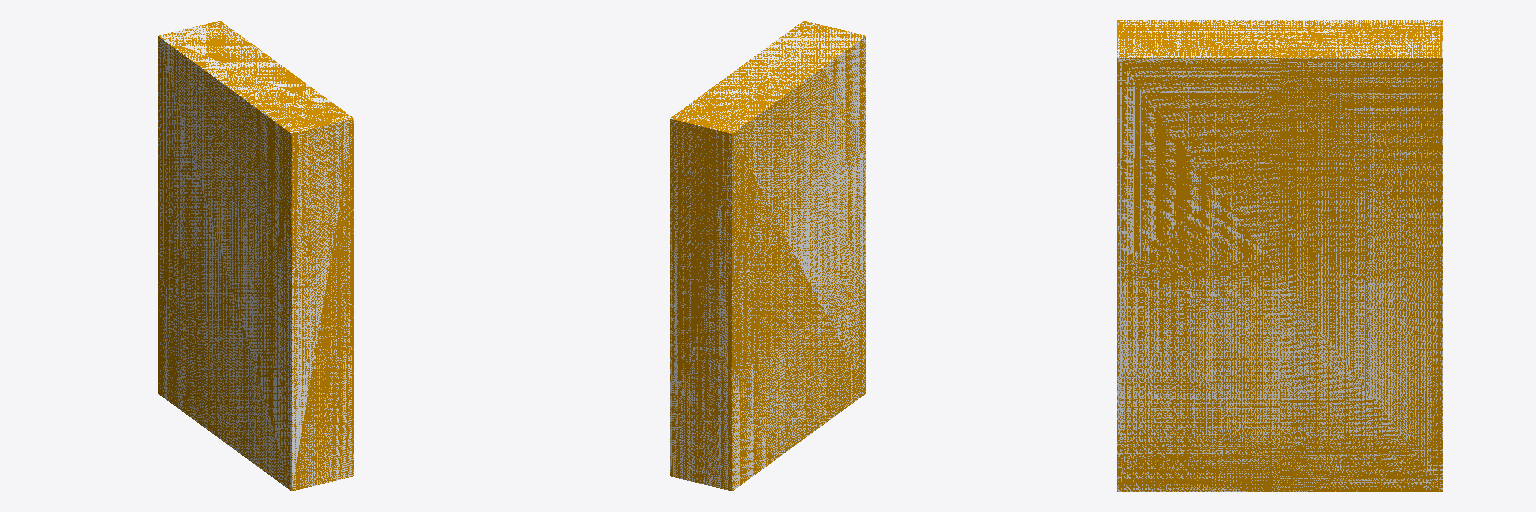
URDF robot description (my_object):
<?xml version="1.0" ?> 
<robot name="my_object" static="true">
  <link name="base_link">
  <inertial>
    <mass value="0.785" />
    <origin xyz="0 0 0.0" />
    <inertia ixx="1.0" ixy="0.0" ixz="0.0" iyy="1.0" iyz="0.0" izz="1.0"/>
  </inertial>
  <visual>
   <origin xyz="0 0 0.0" rpy="0 0 0" />
   <geometry>
     <mesh filename="package://cob_gazebo_objects/Media/models/book_romantiker.dae"/>
   </geometry>
  </visual>
  <collision>
   <origin xyz="0 0 0" rpy="0 0 0" />
   <geometry>
     <box size="0.045 0.168 0.247" />
   </geometry>
  </collision>     
  </link>


<gazebo reference="base_link">
  <mu1>50.0</mu1>
  <mu2>50.0</mu2>
  <kp>1000000.0</kp>
  <kd>1.0</kd>
</gazebo>
</robot>

--- Render facts (derived) ---
3 views of the same robot in one strip: view 1: azimuth 30°, elevation 25°; view 2: azimuth 150°, elevation 25°; view 3: azimuth 270°, elevation 25° (orthographic).
Model my_object with 1 links and 0 joints (none), rooted at base_link, posed all joints at 0.
Visible links, largest first — view 1: base_link; view 2: base_link; view 3: base_link.
Boxes of the visible links, left/top/right/bottom form: base_link: left=158, top=21, right=353, bottom=490; base_link: left=670, top=21, right=865, bottom=490; base_link: left=1117, top=20, right=1442, bottom=491.
Bounding box of the posed robot: 0.0011 × 0.0043 × 0.0063 m (x, y, z).
1 mesh visuals loaded from 1 distinct referenced files (1 Collada DAE).